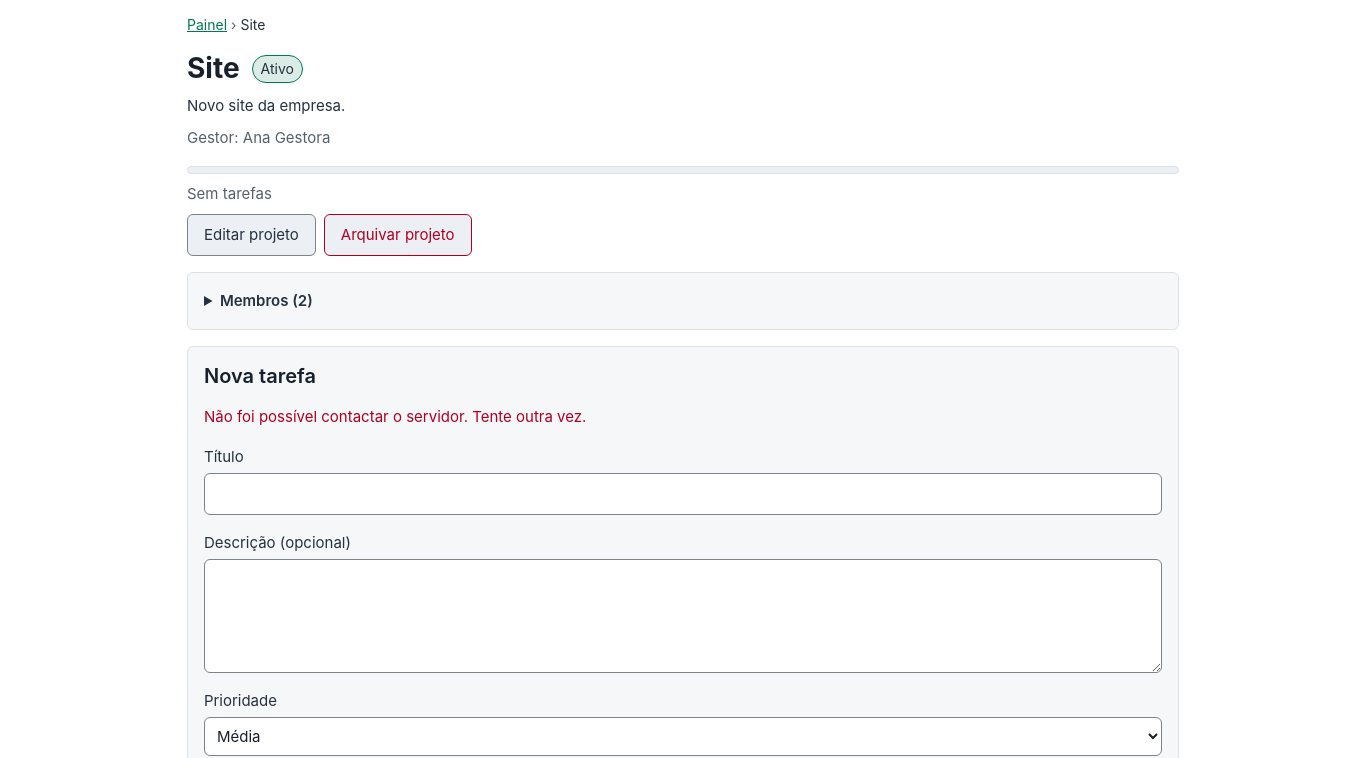
ProjectView (US08, US23, US06) › o Gestor cria uma tarefa: a lista e as contagens atualizam sem recarregar
Expected: the text with test id "progress-percent" reads "Sem tarefas", [187,184,272,203]
In the field labelled "Título": x=683, y=494 [204,473,1162,515], type "  Rever textos "
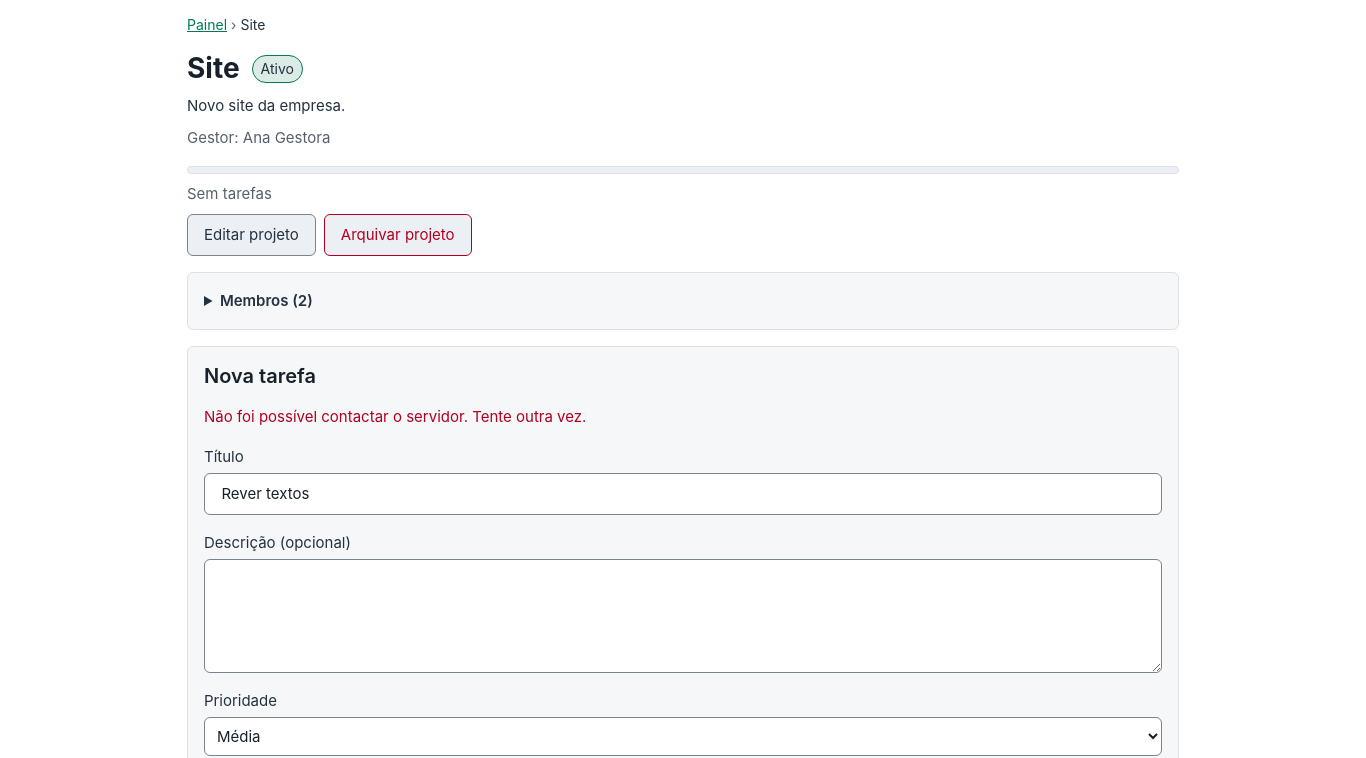
Select "Alta" in the dropdown labelled "Prioridade": x=683, y=736 [204,717,1162,756]
(page scrolled)
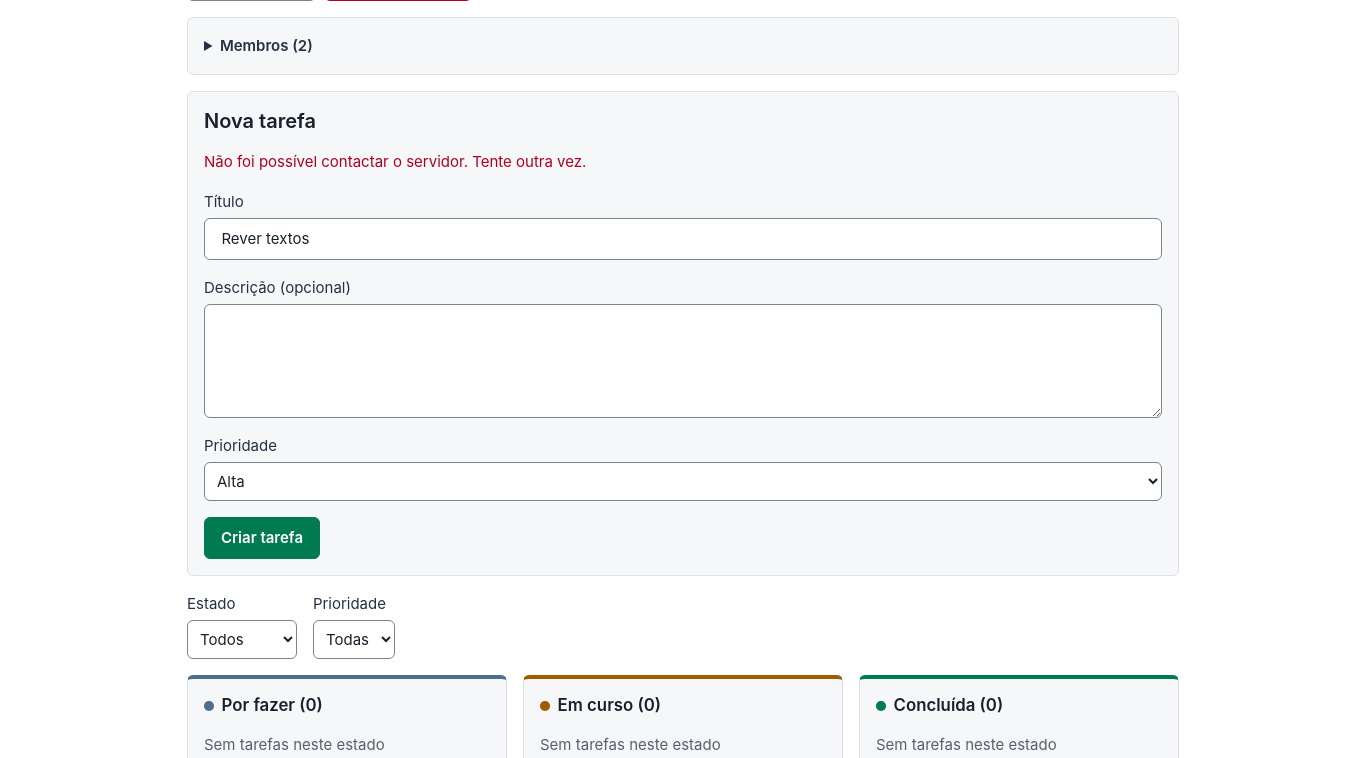
Submit the form, box [204,190,1162,559]
(page scrolled)
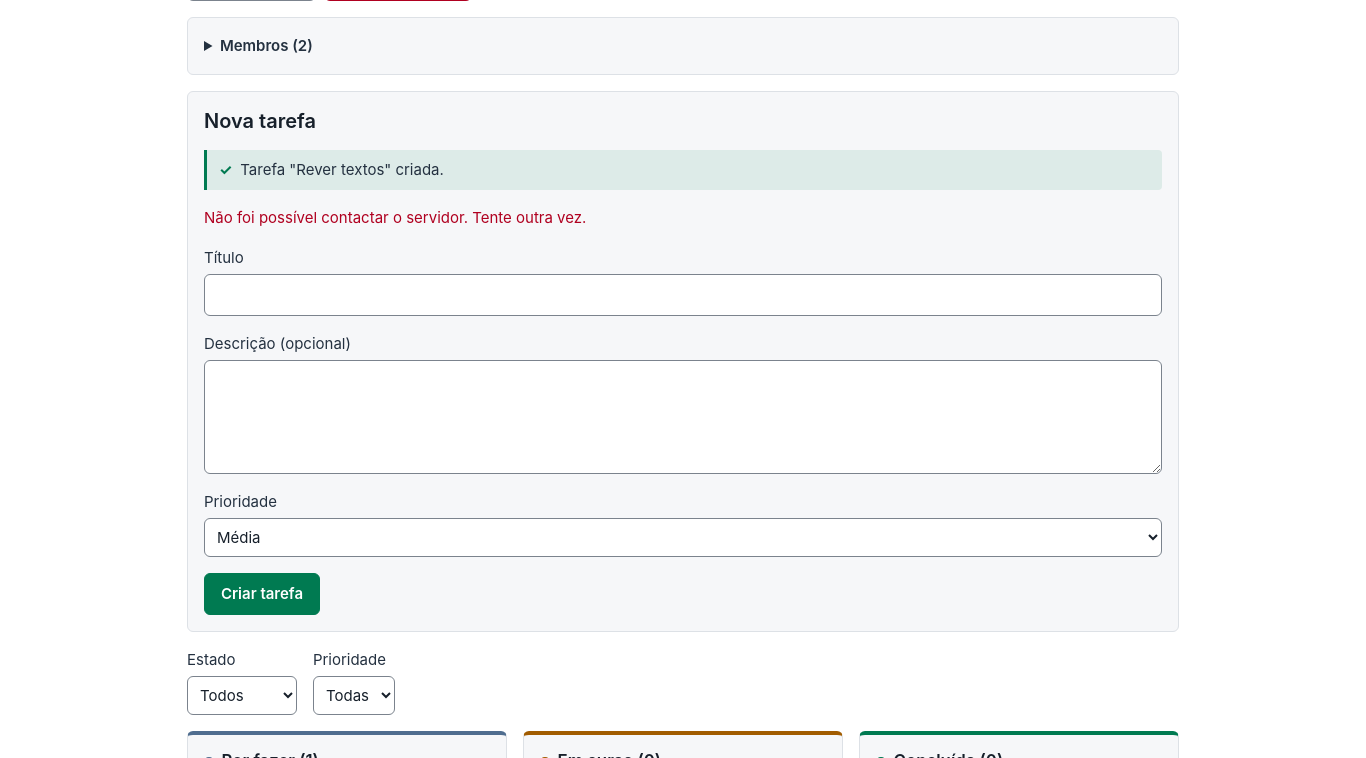
Expected: the text "Tarefa \"Rever textos\" criada." is shown, [204,150,1162,190]
Expected: the field labelled "Título" is empty, [204,274,1162,316]
